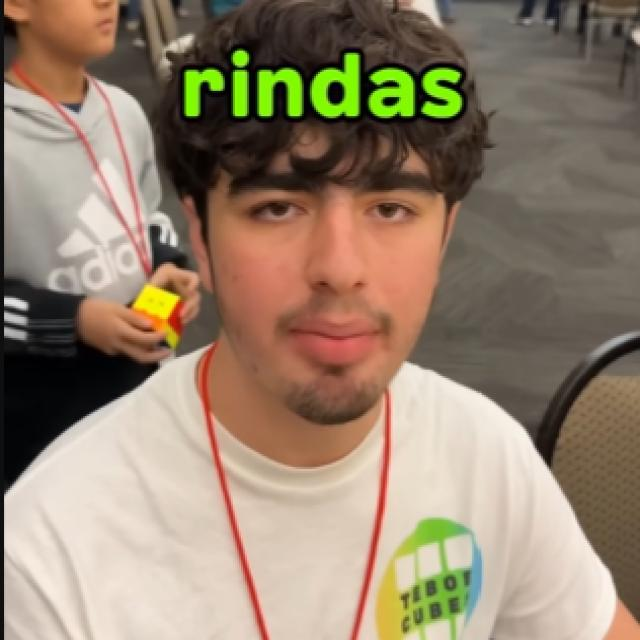Cubo-No-resuelto: (132, 285, 182, 346)
